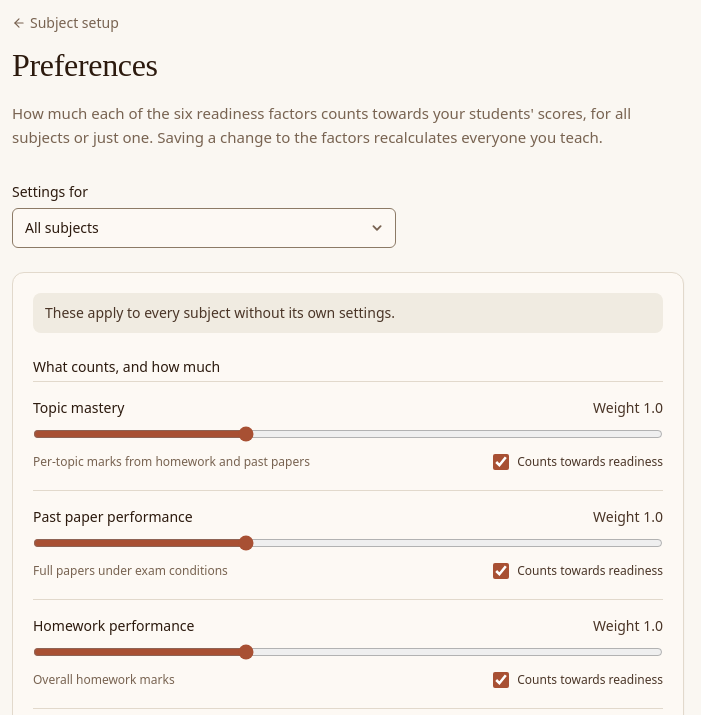
a subject inheriting the account can be customised, copying the account values
The image size is (701, 715).
Select "Chemistry (Edexcel IGCSE 4CH1)" in the dropdown labelled "Settings for" at (204, 228), box [12, 208, 396, 248]
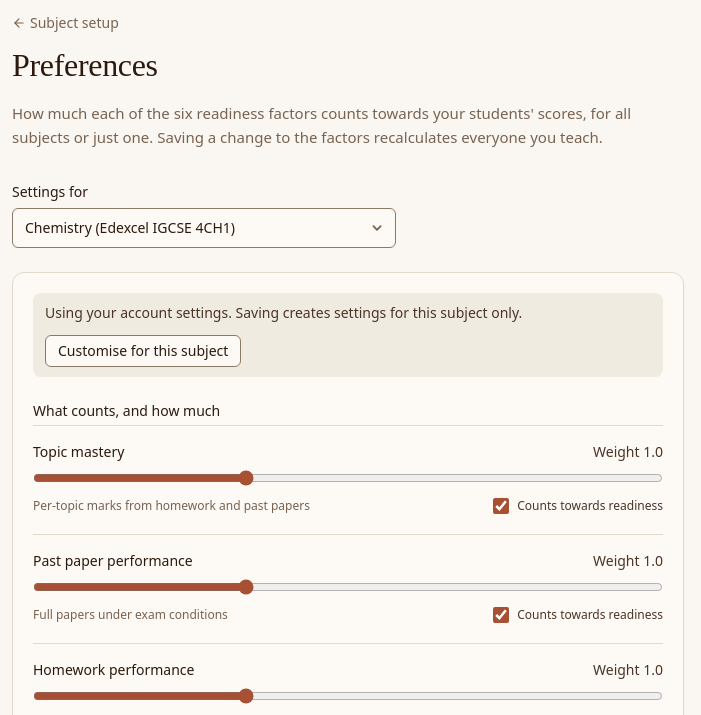
An edit made before customising is what gets saved, not the inherited value.
Set the slider named "Topic mastery" to "2" at (450, 478), box [33, 470, 663, 486]
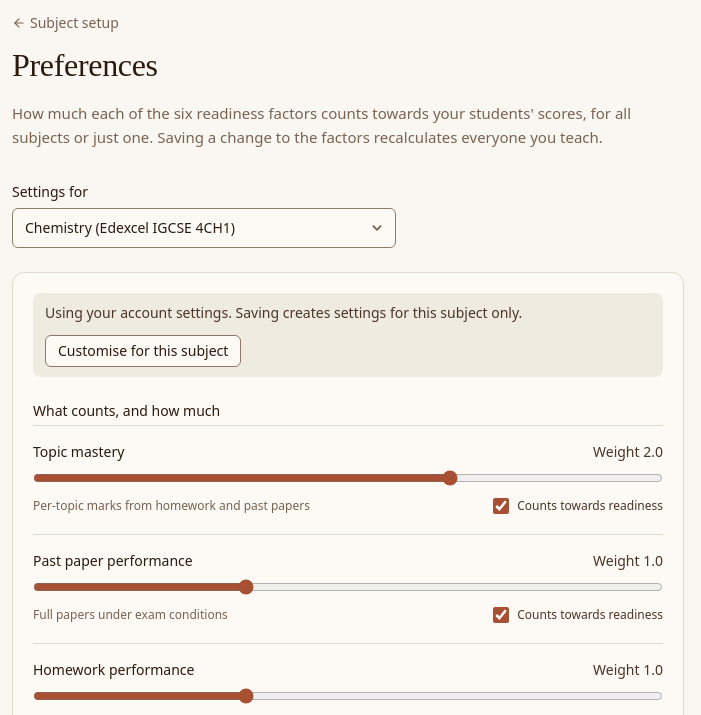
Click the button "Customise for this subject" at (143, 351), box [45, 335, 241, 367]
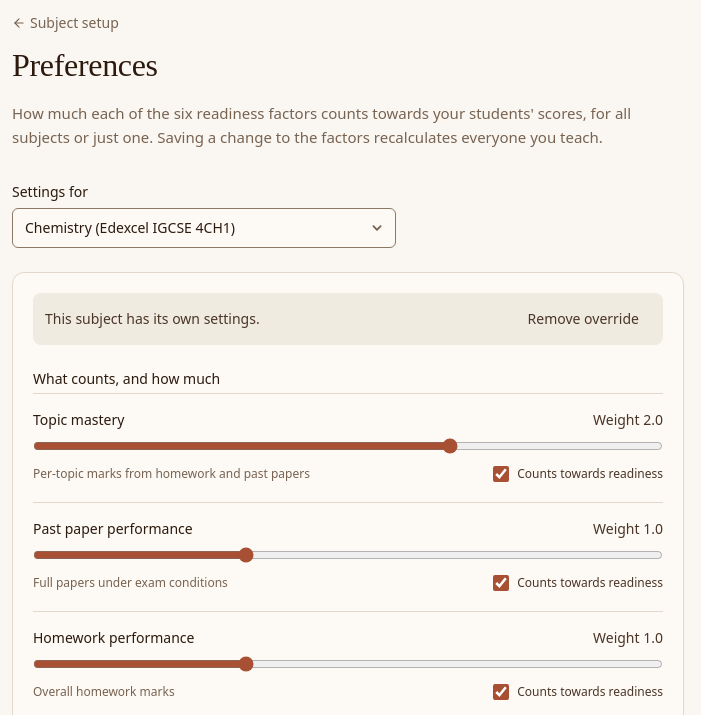
Now the text "This subject has its own settings." is shown, box [45, 309, 260, 329]
Now the button "Remove override" is shown, box [516, 303, 651, 335]
Now the button "Customise for this subject" is gone
